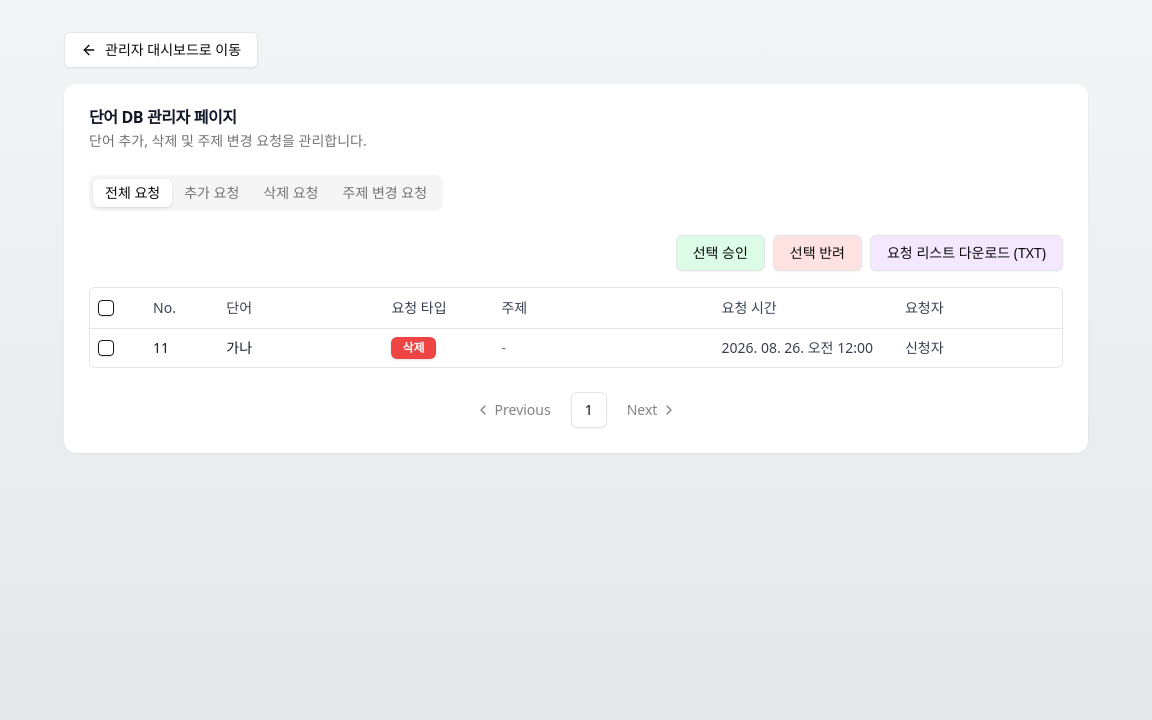
Test case: AdminWrapper query integration › keeps cached moderation content mounted and shows its safe Modal after a failed refetch
This screenshot has width=1152, height=720.
What coordinates should you click on to do the following:
click the checkbox named "가나 선택"
I would click on:
 (106, 348)
Its box is [98, 340, 114, 356].
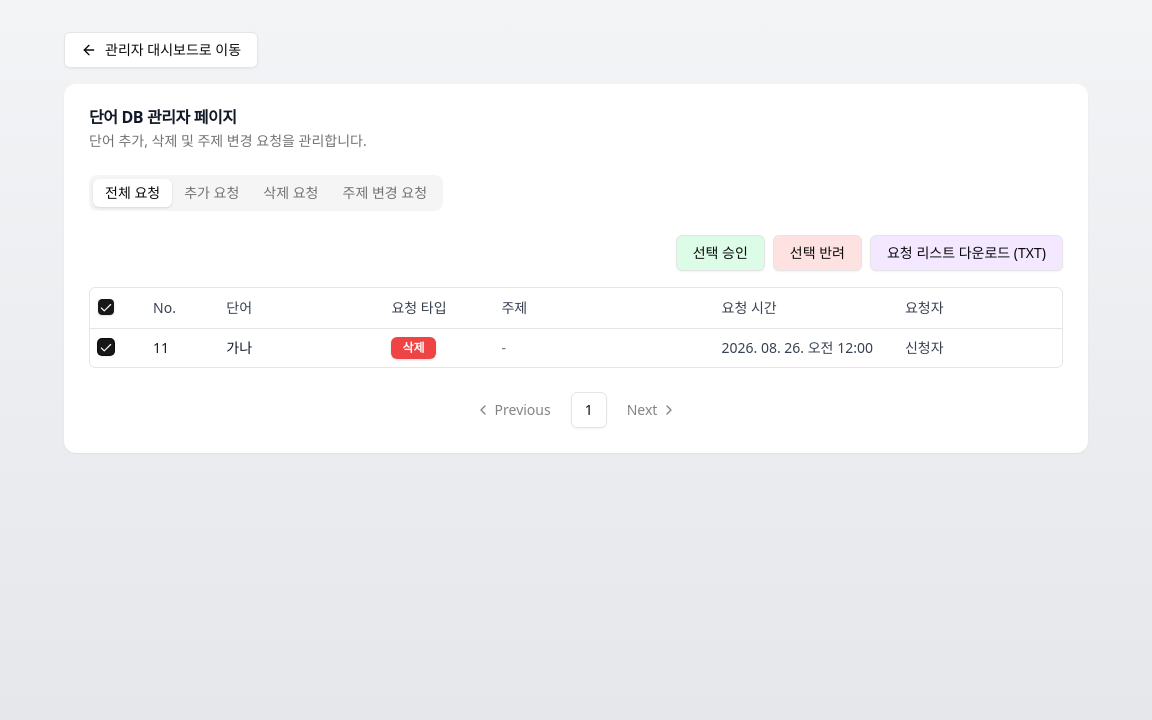
What coordinates should you click on to do the following:
click the button "선택 승인"
I would click on:
 (720, 253)
Its box is [676, 235, 765, 271].
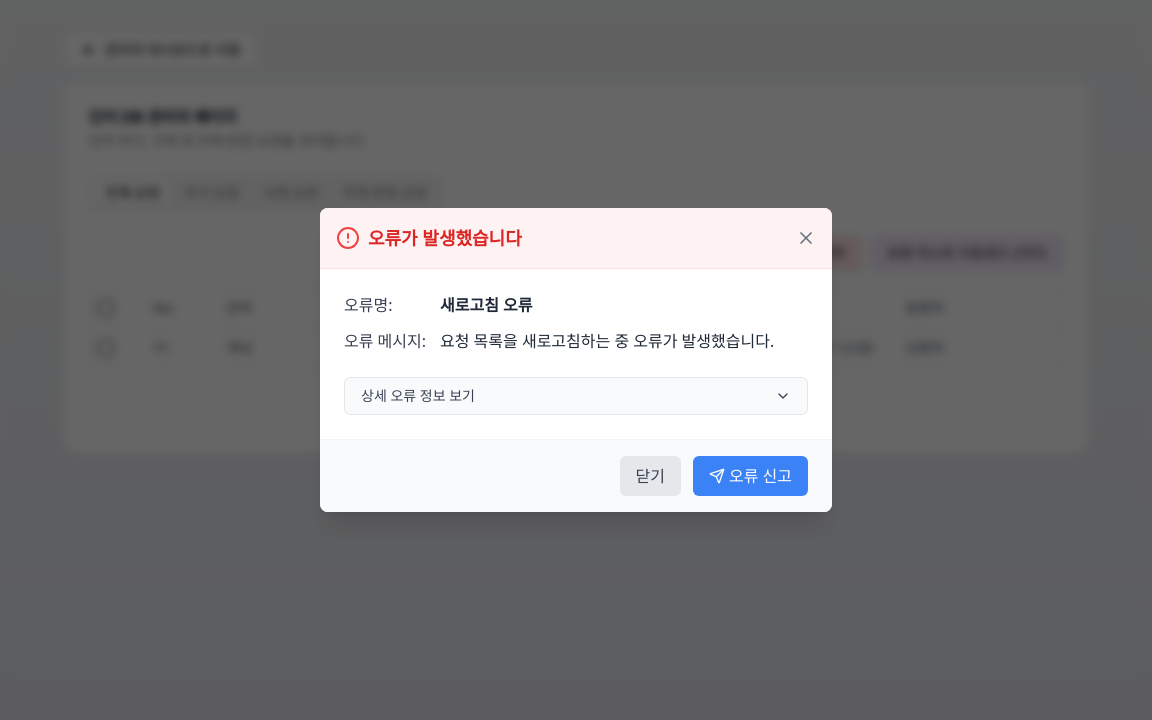
Expected: the text "가나" is shown, [218, 328, 383, 366]
Now the text "요청 목록을 새로고침하는 중 오류가 발생했습니다." is shown, box [440, 329, 774, 353]
